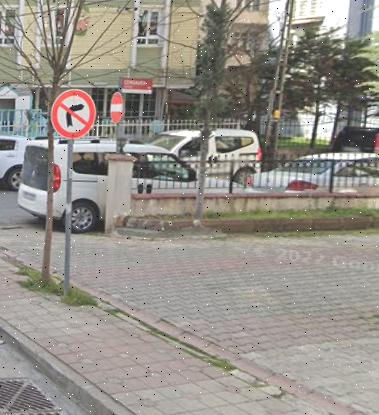rightturnsareforbidden: (52, 88, 98, 138)
